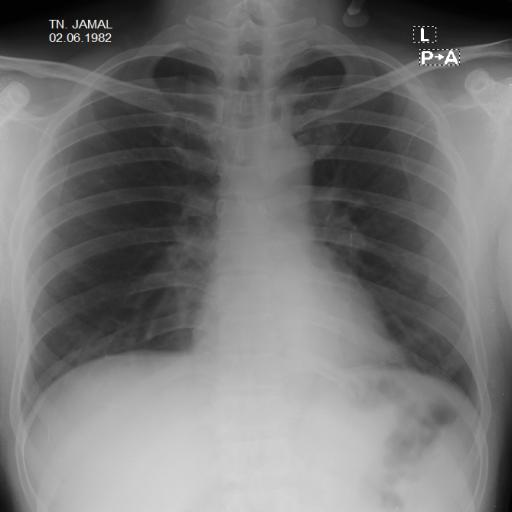normal: (12, 52, 494, 446)
